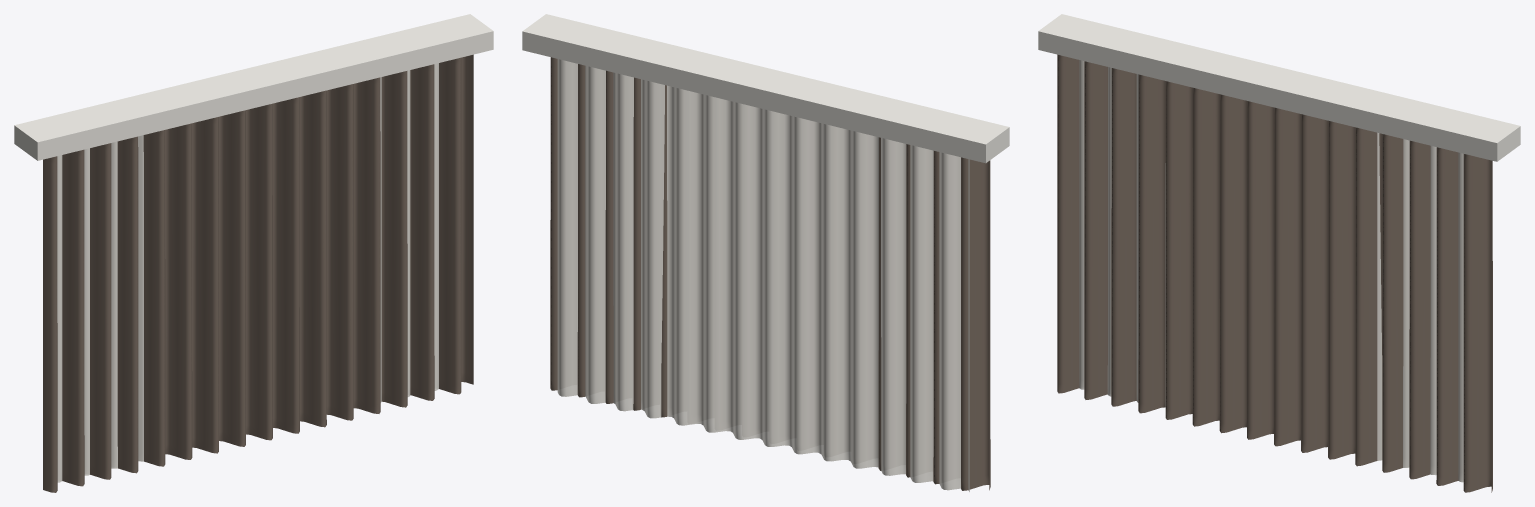
Rendered from curtain-leaf-embroidery.glb.
3 renders of one model, left to right at view 1: azimuth 30°, elevation 25°; view 2: azimuth 150°, elevation 25°; view 3: azimuth 330°, elevation 25°, orthographic.
Visible parts, largest first — view 1: OuterDrapeRight, OuterDrapeLeft, CeilingPelmetBox, InnerEmbroideredLeafSheer; view 2: InnerEmbroideredLeafSheer, CeilingPelmetBox, OuterDrapeLeft, OuterDrapeRight; view 3: OuterDrapeLeft, OuterDrapeRight, CeilingPelmetBox, InnerEmbroideredLeafSheer.
Boxes of the visible parts, box(x1,y1,x2,y2) form: OuterDrapeRight: box(258, 54, 473, 440); OuterDrapeLeft: box(43, 107, 258, 492); CeilingPelmetBox: box(14, 14, 493, 160); InnerEmbroideredLeafSheer: box(57, 63, 438, 482); InnerEmbroideredLeafSheer: box(557, 59, 969, 491); CeilingPelmetBox: box(522, 14, 1009, 163); OuterDrapeLeft: box(878, 137, 990, 490); OuterDrapeRight: box(550, 57, 667, 417); OuterDrapeLeft: box(1057, 54, 1273, 439); OuterDrapeRight: box(1274, 107, 1492, 492); CeilingPelmetBox: box(1038, 14, 1520, 161); InnerEmbroideredLeafSheer: box(1079, 60, 1463, 482).
Bounding box in the file's own units: 3.6 × 2.68 × 0.32.
